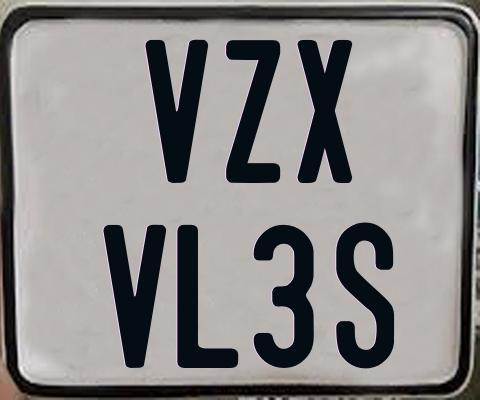3: (254, 225, 319, 374)
L: (174, 223, 241, 367)
S: (334, 222, 392, 371)
V: (101, 222, 166, 369), (143, 40, 208, 185)
X: (296, 37, 351, 183)
Z: (223, 39, 283, 186)
